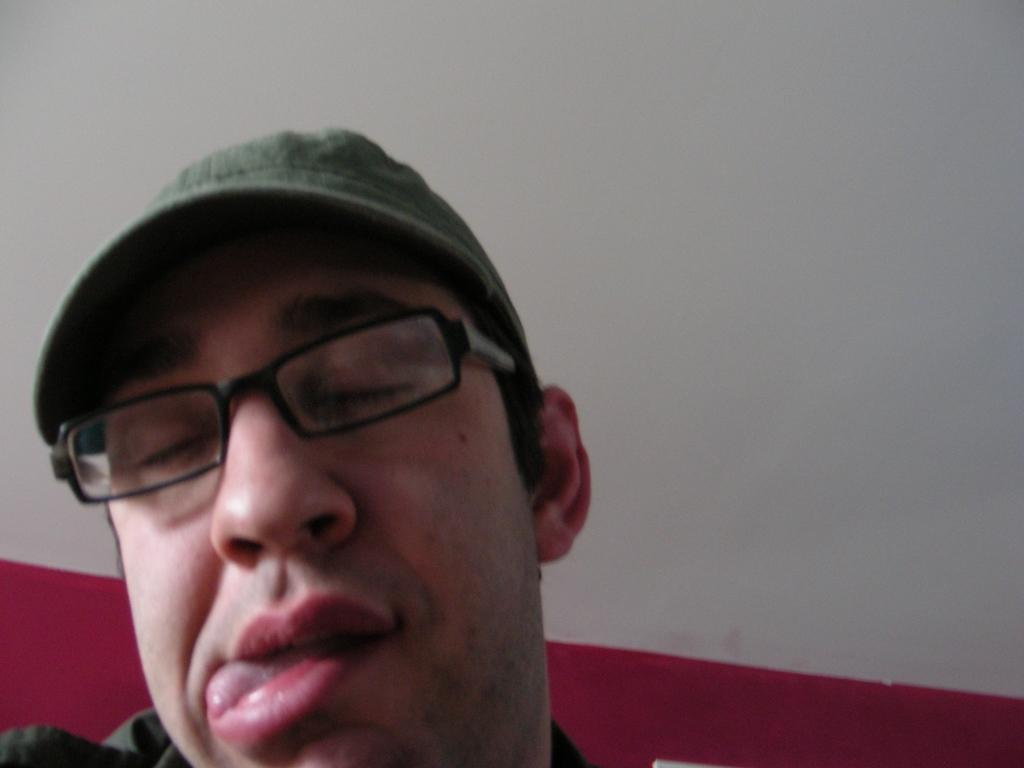Hat: (33, 130, 533, 458)
